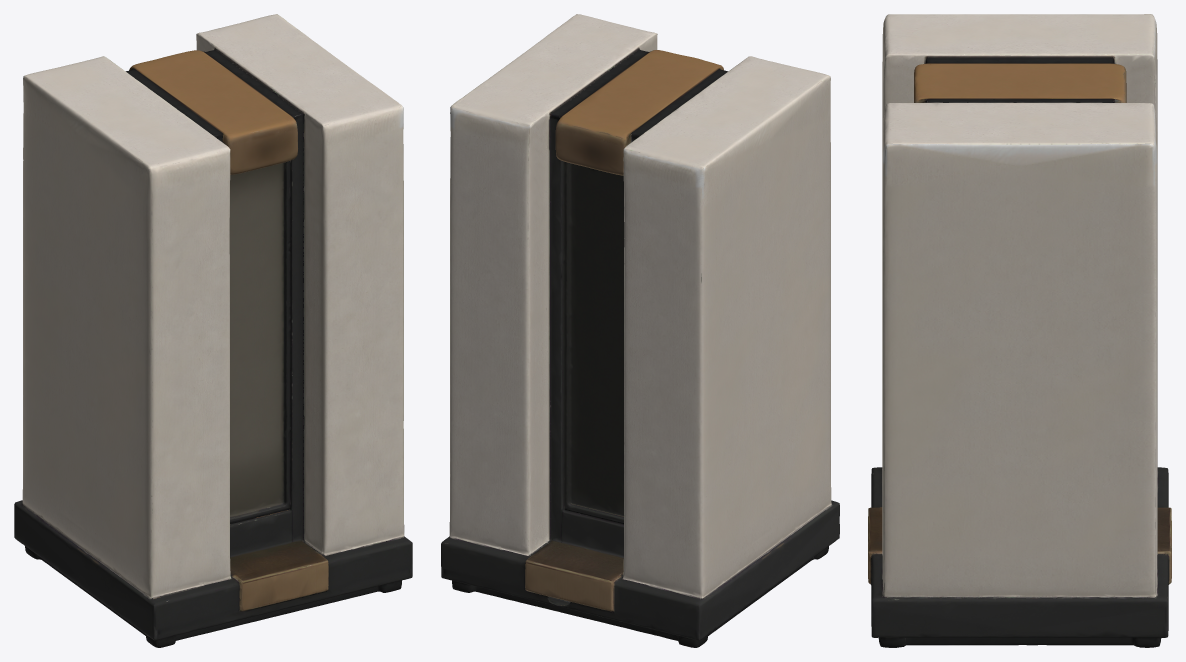
File: stage-support.glb
3 renders of one model, left to right at view 1: azimuth 30°, elevation 25°; view 2: azimuth 150°, elevation 25°; view 3: azimuth 270°, elevation 25°, orthographic. The views are drawn at different scales.
Visible parts, largest first — view 1: Mesh_0; view 2: Mesh_0; view 3: Mesh_0.
Part boxes in pixels (x1=…): Mesh_0: x1=14, y1=14, x2=412, y2=647; Mesh_0: x1=441, y1=14, x2=839, y2=647; Mesh_0: x1=868, y1=14, x2=1171, y2=647.
Size of the model in its own units: 1.08 by 1.91 by 1.04.
Materials: 1 (1 with a texture image).
